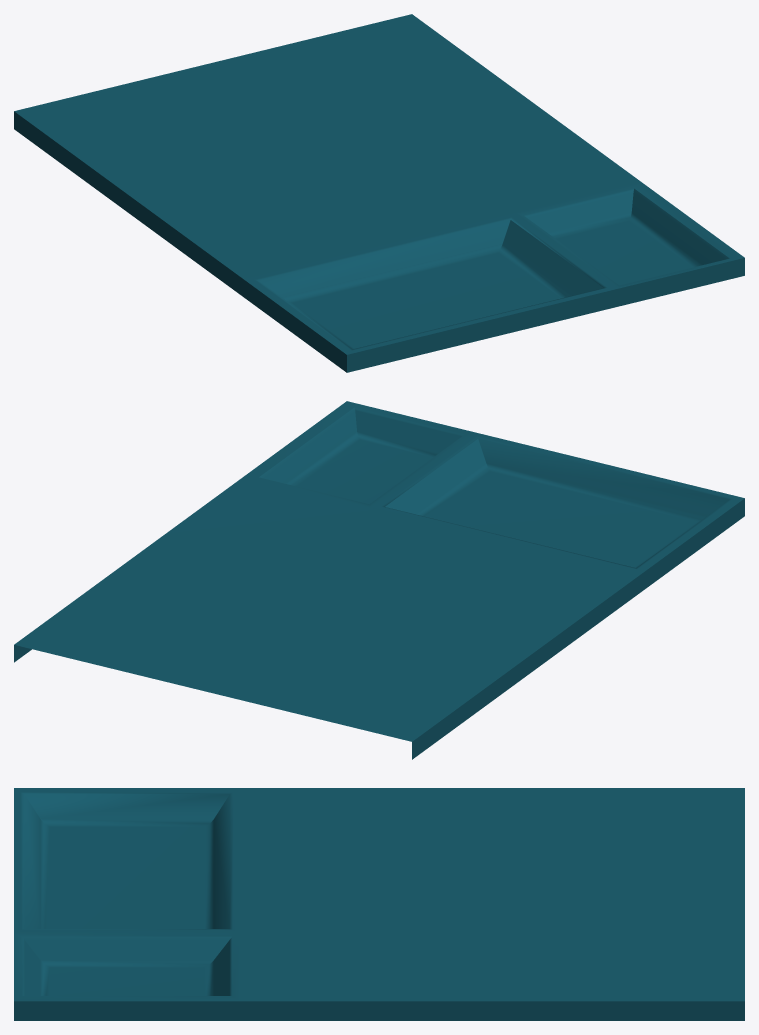
Rendered from organes_bac_haut.fbx.
3 renders of one model, top to bottom at view 1: azimuth 30°, elevation 25°; view 2: azimuth 150°, elevation 25°; view 3: azimuth 270°, elevation 25°, orthographic. The views are drawn at different scales.
Visible parts, largest first — view 1: organes_bac_haut; view 2: organes_bac_haut; view 3: organes_bac_haut.
Part boxes in pixels (x1,y1,x2,y2): organes_bac_haut: (14, 14, 744, 372); organes_bac_haut: (14, 401, 744, 759); organes_bac_haut: (14, 788, 744, 1020).
Size of the model in its own units: 2.62 by 0.1235 by 3.8.
